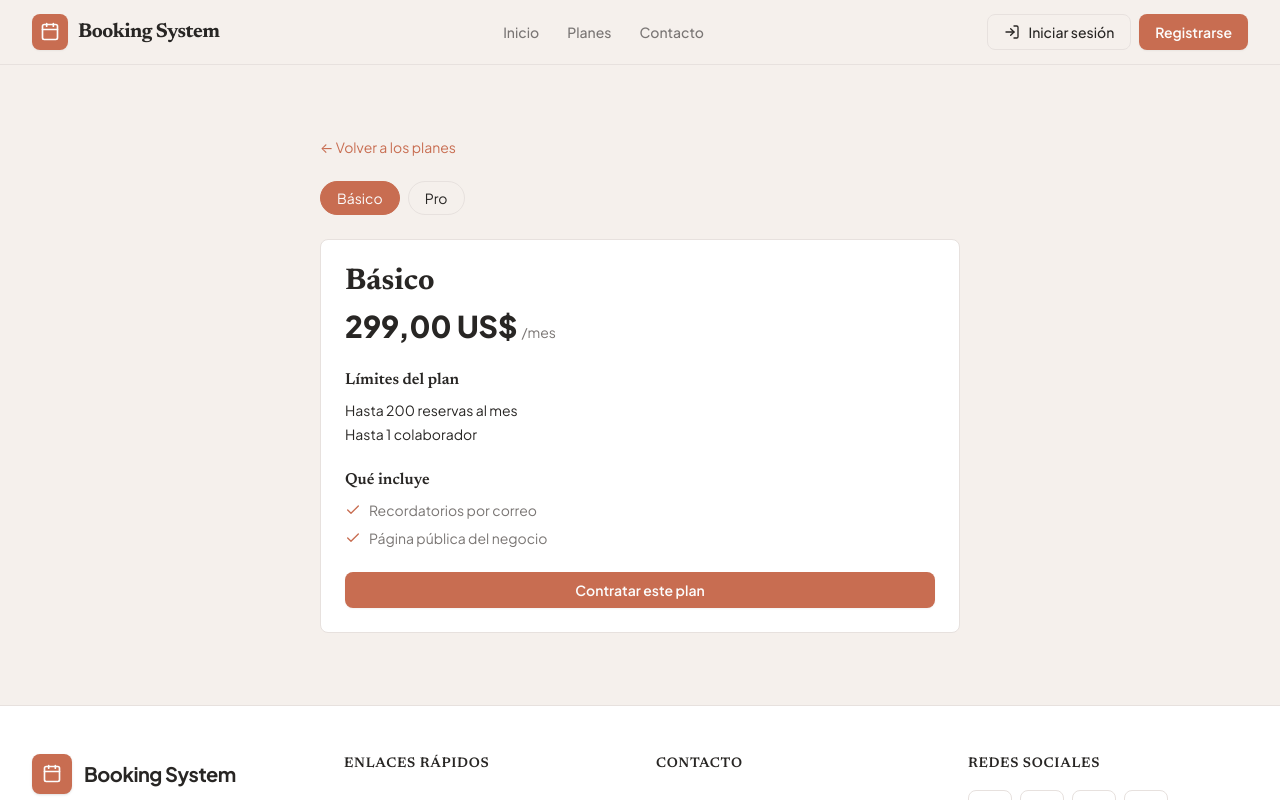
PlanDetailPage (KAN-21) › KAN-21: AC-KAN-21-03 switches to another plan and marks the current one
The width and height of the screenshot is (1280, 800).
Click the link "Pro" at x=436, y=198, box [408, 181, 464, 215]
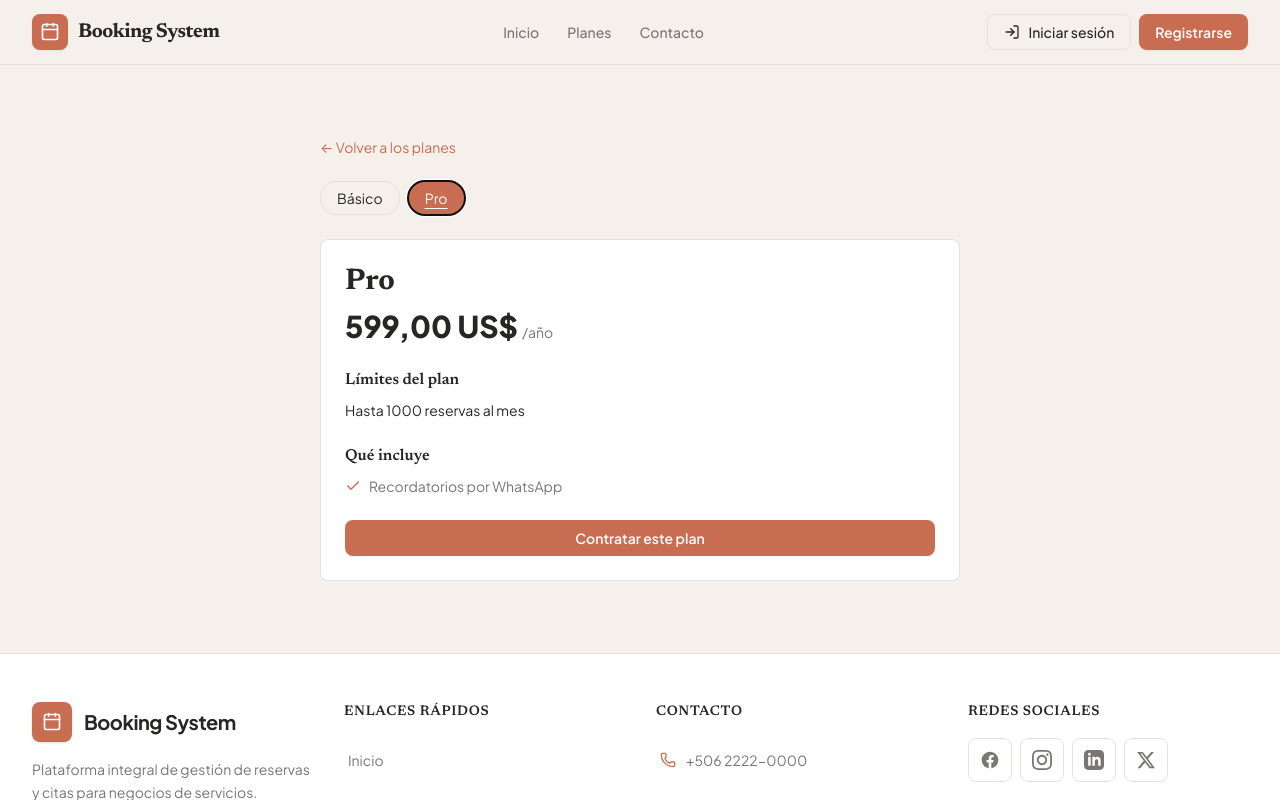
Now the heading "Pro" is shown, box [345, 267, 395, 297]
Now the text "/año" is shown, box [522, 322, 553, 342]
